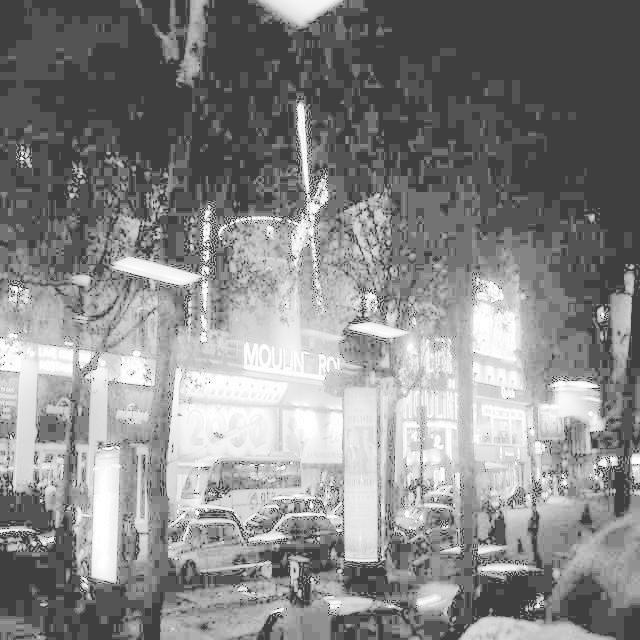Bus: (171, 427, 325, 537)
Car: (458, 556, 553, 639), (165, 529, 258, 610), (381, 486, 454, 571), (1, 515, 60, 616), (260, 525, 339, 596)
